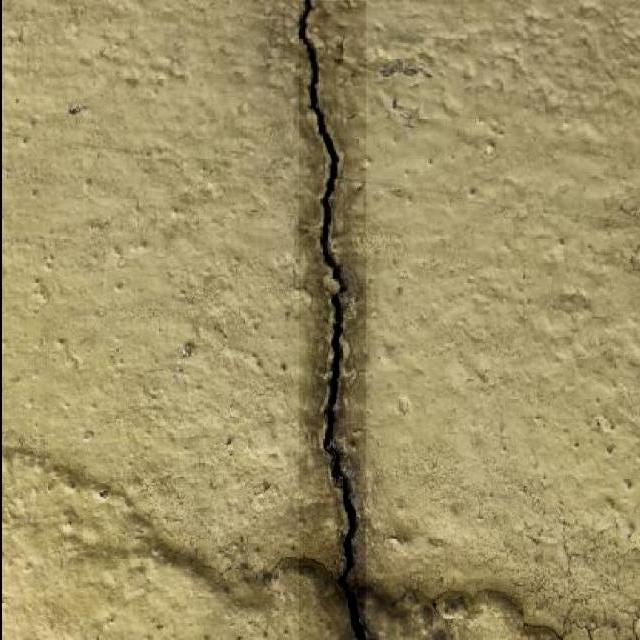Crack: (295, 0, 370, 639)
